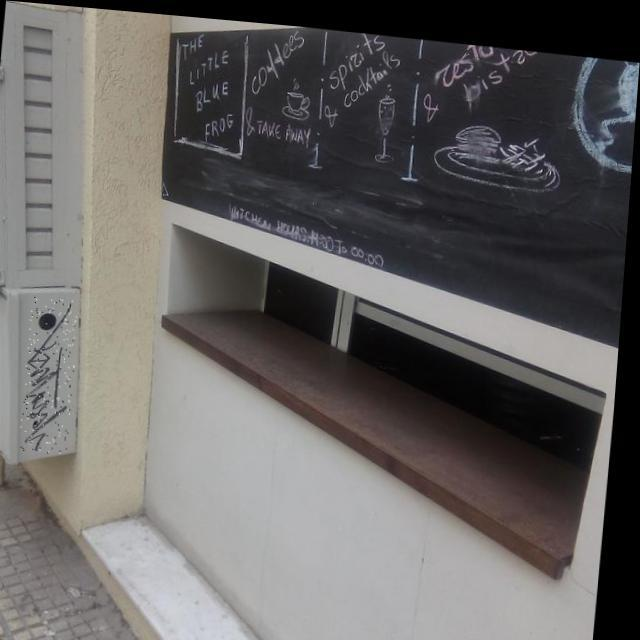-: (24, 295, 84, 454)
